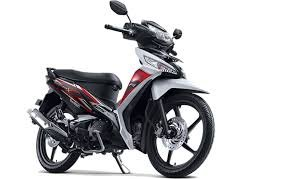motor: (30, 9, 216, 178)
